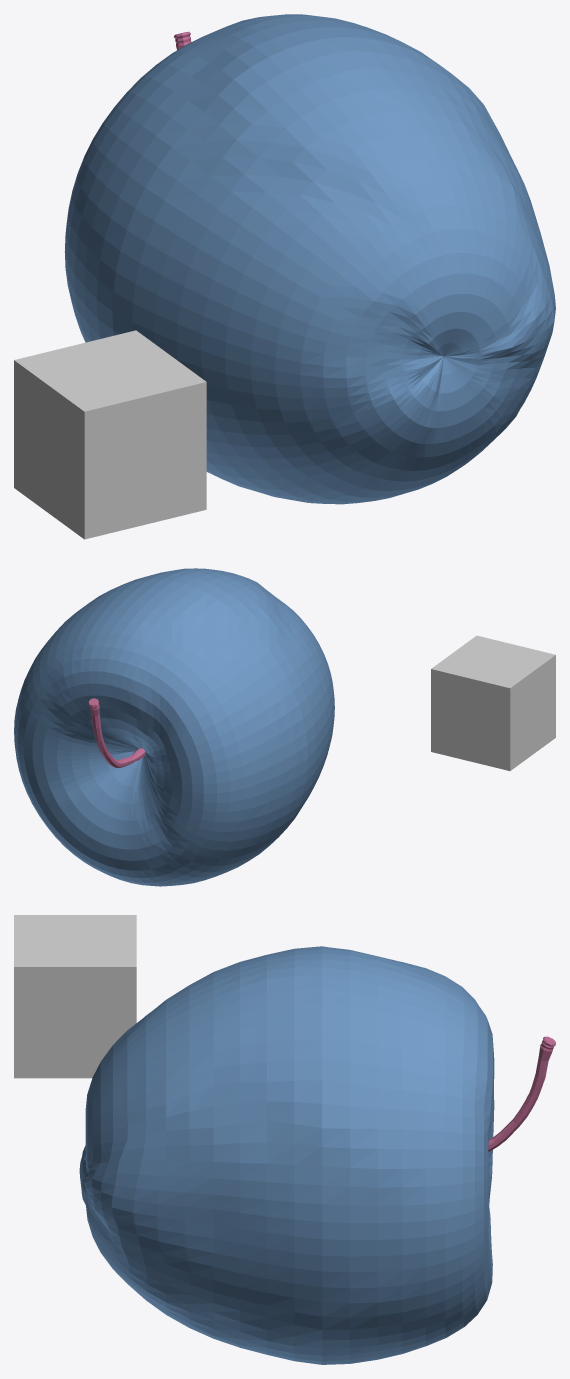
Rendered from apple.dae.
3 views of the same model, one above another, from view 1: azimuth 30°, elevation 25°; view 2: azimuth 150°, elevation 25°; view 3: azimuth 270°, elevation 25° (orthographic). The views are drawn at different scales.
Parts seen in each view (by area): view 1: object, Cube; view 2: object, Cube, apple_skin; view 3: object, Cube, apple_skin.
Part boxes in pixels (x1,y1,x2,y2): object: (64,14,555,504); Cube: (14,330,206,539); object: (14,568,334,886); Cube: (431,635,555,770); apple_skin: (88,698,145,767); object: (79,946,494,1364); Cube: (14,915,136,1078); apple_skin: (488,1036,555,1151).
Bounding box in the file's own units: 9.89 × 8.83 × 6.89.
